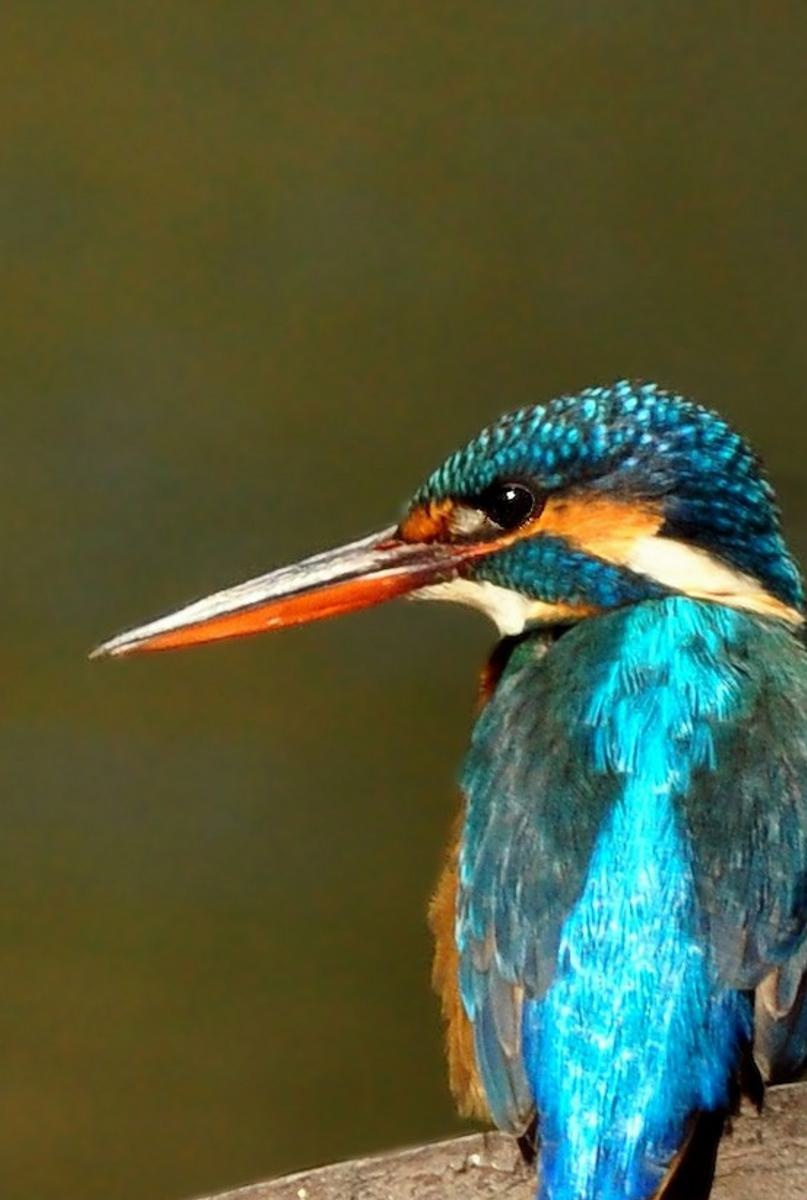kingfisher: (52, 383, 807, 1171)
